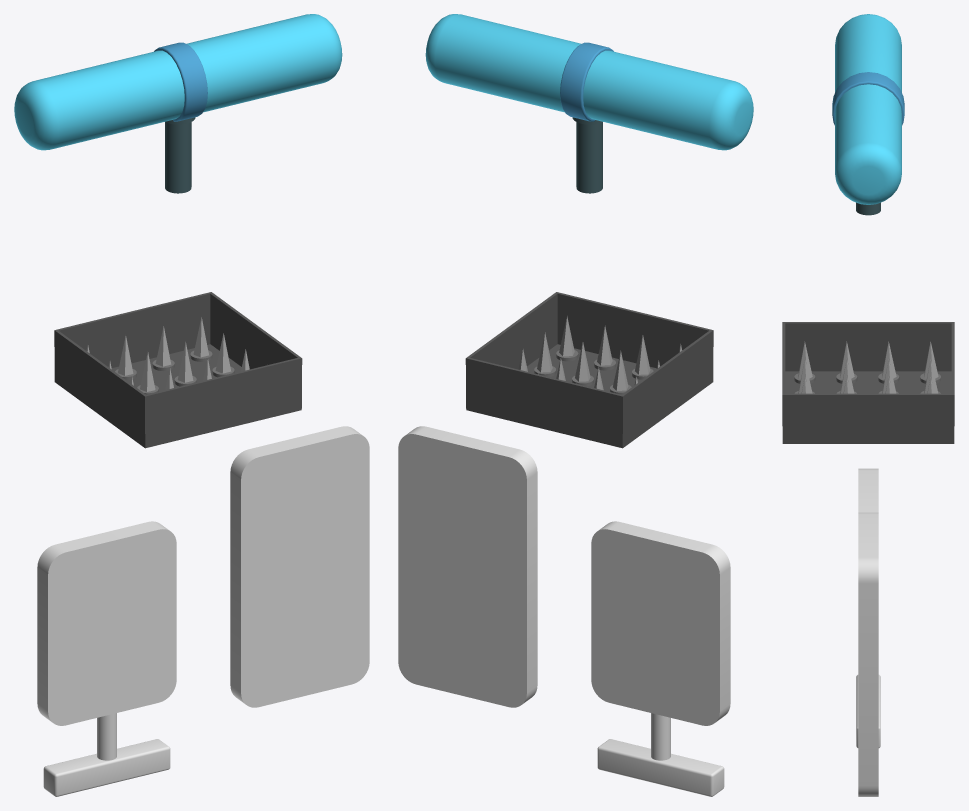
Rendered from crowdbattle_obstacles1.fbx.
3 views of the same model, side by side, from view 1: azimuth 30°, elevation 25°; view 2: azimuth 150°, elevation 25°; view 3: azimuth 270°, elevation 25° (orthographic). The views are drawn at different scales.
Visible parts, largest first — view 1: Cube.006, Cube.005, Cube.004, Cylinder, Cube.007, Base, Cylinder.018; view 2: Cube.006, Cube.005, Cube.004, Cylinder, Cube.007, Base, Cylinder.018; view 3: Cube.004, Cylinder, Cube.006, Cube.005, Cube.007.
Part boxes in pixels (box(x1,y1,x2,y2)): Cube.006: box(230, 426, 369, 707); Cube.005: box(37, 521, 176, 725); Cube.004: box(54, 292, 302, 448); Cylinder: box(14, 14, 342, 150); Cube.007: box(43, 739, 170, 796); Base: box(165, 117, 195, 193); Cylinder.018: box(97, 713, 116, 760); Cube.006: box(398, 426, 537, 707); Cube.005: box(591, 521, 730, 725); Cube.004: box(465, 292, 713, 448); Cylinder: box(425, 14, 753, 150); Cube.007: box(597, 739, 724, 796); Base: box(572, 117, 602, 193); Cylinder.018: box(651, 713, 670, 760); Cube.004: box(782, 322, 954, 443); Cylinder: box(832, 14, 904, 204); Cube.006: box(858, 512, 878, 796); Cube.005: box(858, 468, 878, 512); Cube.007: box(856, 675, 880, 747).
Bounding box in the file's own units: 111 × 223 × 51.29.
